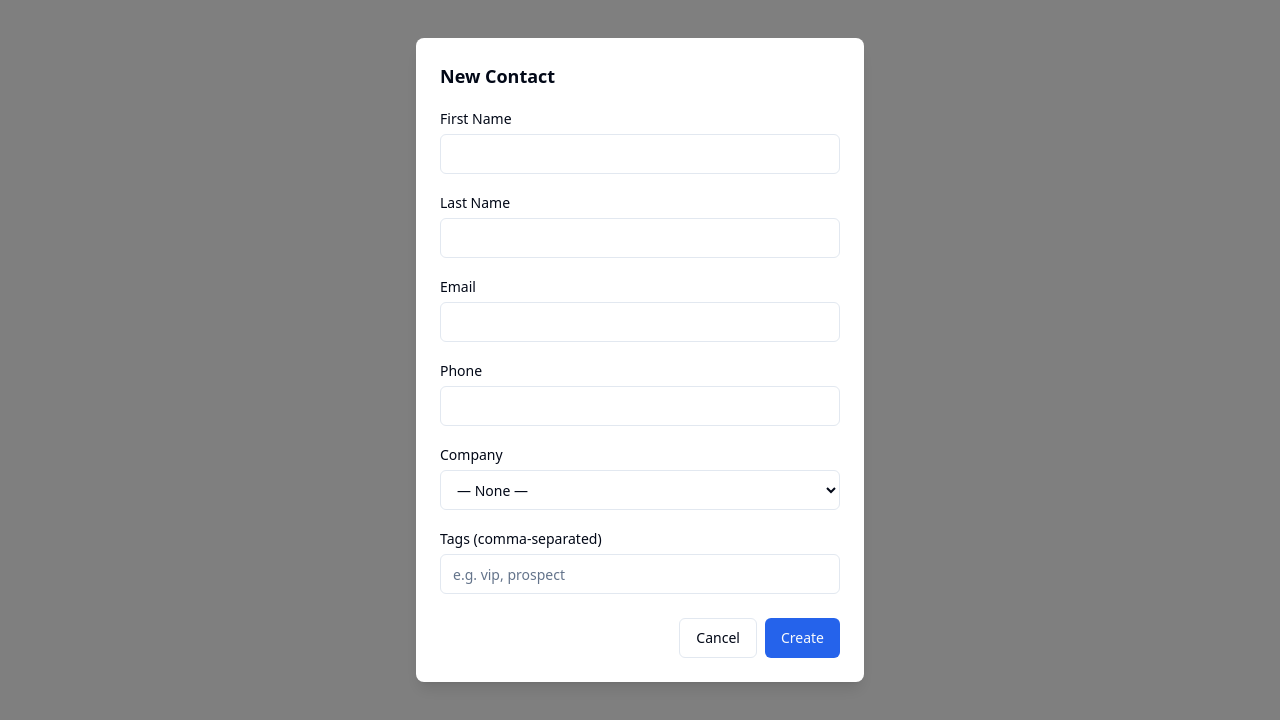
Test: CreateContact integration › shows validation errors when submitting empty form
Click the button "Create". click: coordinates (802, 638)
box: [765,618,840,658]
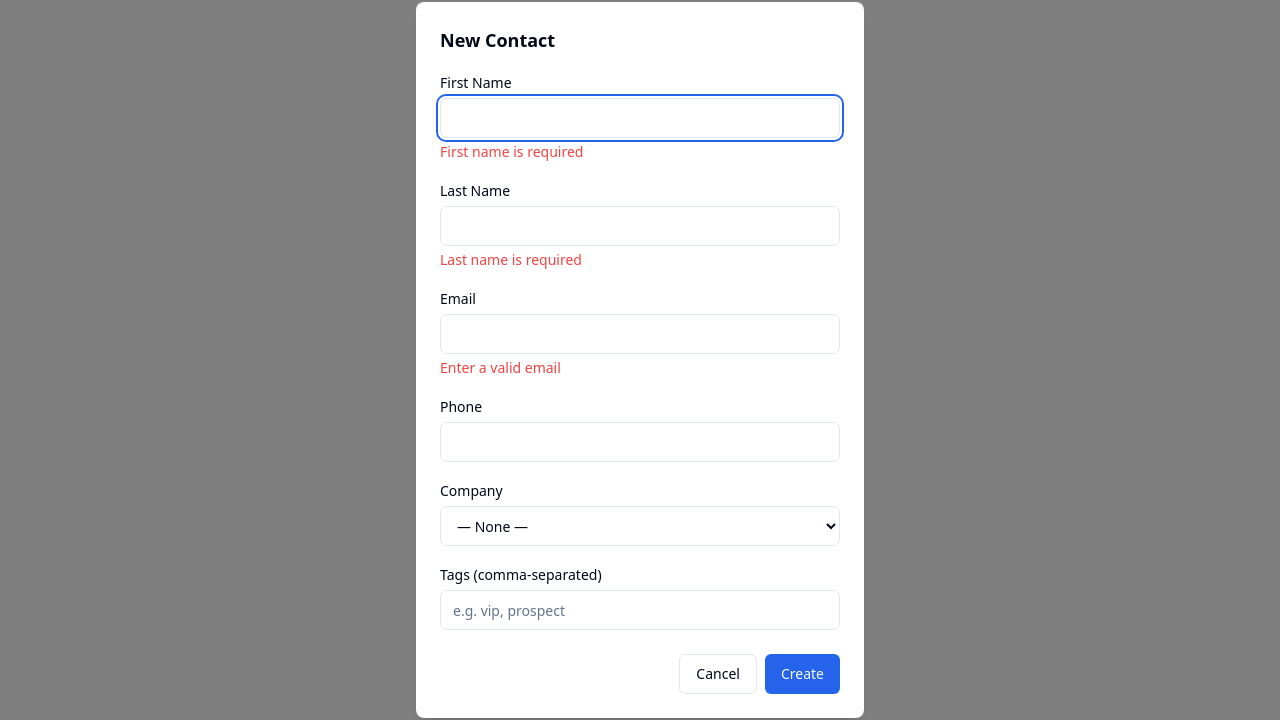
Check: the text "First name is required" is shown, box [440,142,583,161]
Check: the text "Last name is required" is shown, box [440,250,582,269]
